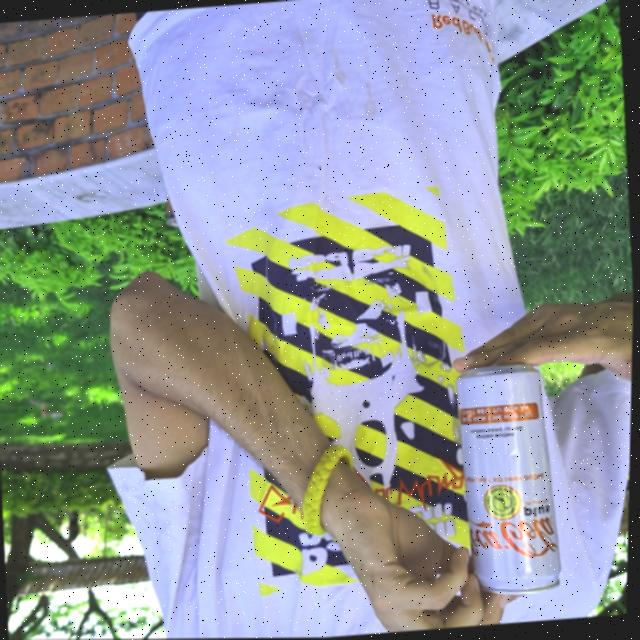Coca Cola Plus: (448, 366, 573, 603)
